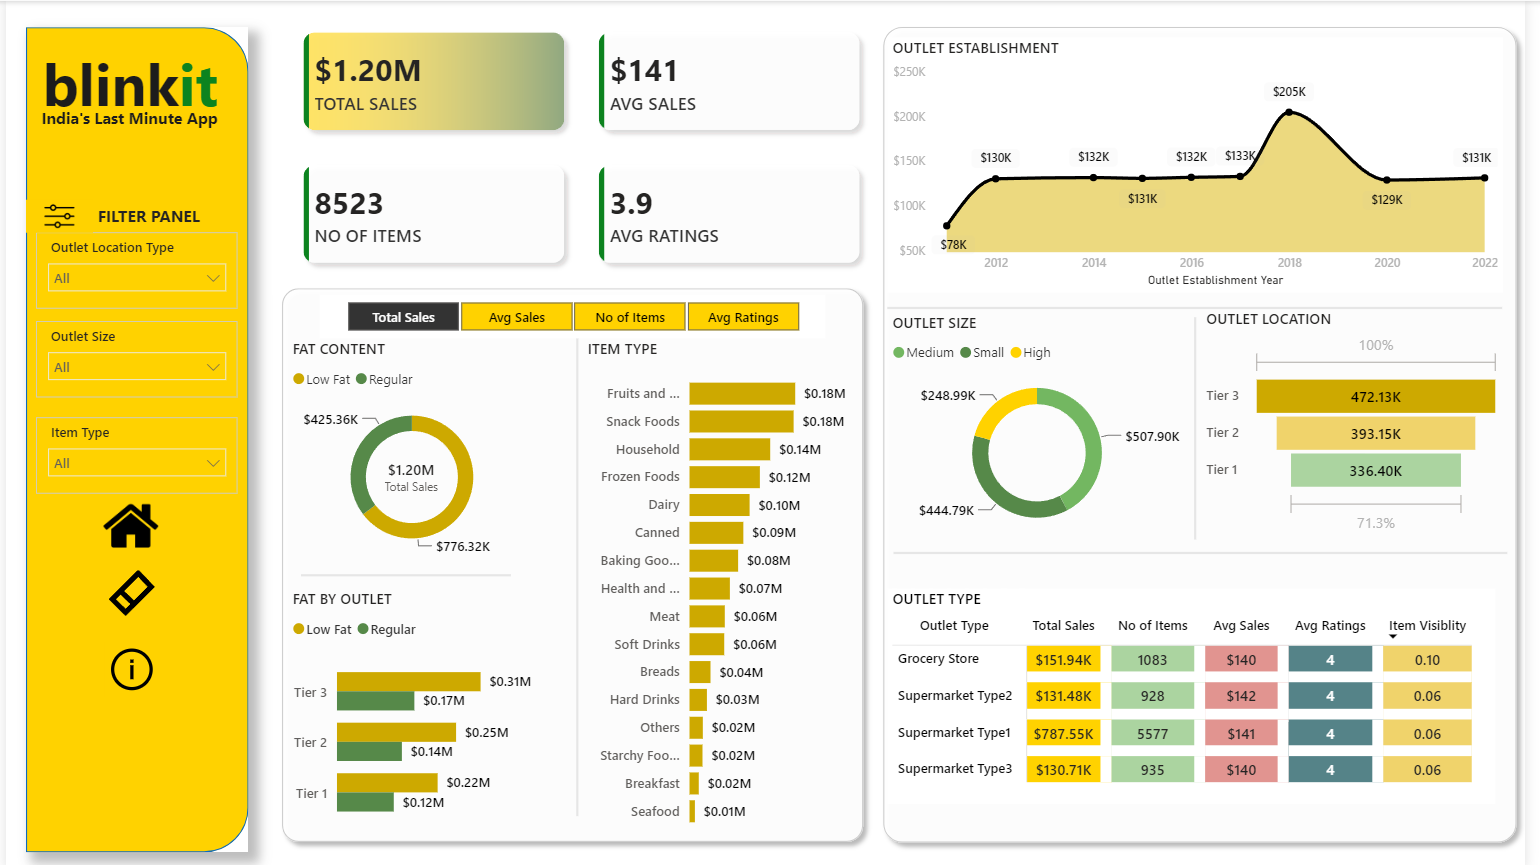

The dashboard page shown, as its layout file describes it:
{"tool":"powerbi","page":{"name":"HOME","canvas":[1400,800],"ordinal":0},"visuals":[{"type":"shape","box":[18.7,24,205,760],"z":0},{"type":"textbox","box":[28.6,34.3,185.7,90],"z":1000},{"type":"textbox","box":[28,92,173.3,33.3],"z":2000},{"type":"cardVisual","fields":{"Data":["All Measures.Total Sales","All Measures.Avg Sales","All Measures.No of Items","All Measures.Avg Ratings"]},"box":[245.3,0,570.7,270.7],"z":3000},{"type":"shape","box":[245.3,256,553.3,528],"z":4000},{"type":"donutChart","title":"FAT CONTENT","fields":{"Category":["BlinkIT Grocery Data.Item Fat Content"],"Y":["All Measures.Total Sales"]},"box":[258.8,311.2,230,210],"z":5000},{"type":"slicer","fields":{"Values":["Metrics.Metrics"]},"box":[289.3,270.7,465.3,40],"z":6000},{"type":"cardVisual","fields":{"Data":["All Measures.Total Sales"]},"box":[317.5,403.8,111.2,68.8],"z":7000},{"type":"clusteredBarChart","title":"FAT BY OUTLET","fields":{"Category":["BlinkIT Grocery Data.Outlet Location Type"],"Series":["BlinkIT Grocery Data.Item Fat Content"],"Y":["All Measures.Total Sales"]},"box":[258.8,541.2,230,231.2],"z":8000},{"type":"shape","box":[272,517.3,193.3,24],"z":9000},{"type":"shape","box":[521.3,310.7,9.3,440],"z":10000},{"type":"barChart","title":"ITEM TYPE","fields":{"Category":["BlinkIT Grocery Data.Item Type"],"Y":["All Measures.Total Sales"]},"box":[530.7,310.7,248,461.3],"z":11000},{"type":"shape","box":[798.7,14.7,601.3,769.3],"z":12000},{"type":"lineChart","title":"OUTLET ESTABLISHMENT","fields":{"Category":["BlinkIT Grocery Data.Outlet Establishment Year"],"Y":["All Measures.Total Sales"]},"box":[811.2,33.8,567.5,235],"z":13000},{"type":"shape","box":[811.5,270.5,566.7,24.4],"z":14000},{"type":"donutChart","title":"OUTLET SIZE","fields":{"Category":["BlinkIT Grocery Data.Outlet Size"],"Y":["All Measures.Total Sales"]},"box":[811.2,286.2,276.2,213.8],"z":15000},{"type":"shape","box":[1091,291,7.7,205.1],"z":16000},{"type":"funnel","title":"OUTLET LOCATION","fields":{"Category":["BlinkIT Grocery Data.Outlet Location Type"],"Y":["Sum(BlinkIT Grocery Data.Sales)"]},"box":[1101.2,283.8,281.2,212.5],"z":17000},{"type":"shape","box":[817.9,496.2,565.4,24.4],"z":18000},{"type":"pivotTable","title":"OUTLET TYPE","fields":{"Rows":["BlinkIT Grocery Data.Outlet Type"],"Values":["All Measures.Total Sales","All Measures.No of Items","All Measures.Avg Sales","All Measures.Avg Ratings","Avg(BlinkIT Grocery Data.Item Visibility)"]},"box":[811.2,541.2,560,198.8],"z":19000},{"type":"slicer","fields":{"Values":["BlinkIT Grocery Data.Outlet Location Type"]},"box":[28.2,212.8,185.9,70.5],"z":20000},{"type":"slicer","fields":{"Values":["BlinkIT Grocery Data.Outlet Size"]},"box":[28.2,294.9,185.9,70.5],"z":21000},{"type":"slicer","fields":{"Values":["BlinkIT Grocery Data.Item Type"]},"box":[28.2,383.3,185.9,70.5],"z":22000},{"type":"textbox","box":[80,182.5,121.2,30],"z":23000},{"type":"image","box":[18.8,182.5,61.2,30],"z":24000},{"type":"image","box":[90,458.8,50,50],"z":25000},{"type":"actionButton","box":[90.5,520.2,50,50],"z":28000},{"type":"actionButton","box":[90.5,590.5,50,50],"z":28001}]}

Visuals, with their boxes in screenshot pixels (x1, y1, x2, y2), scaled from the page's 1400x800 canvas onto the 1540x865 screenshot:
shape: [x1=21, y1=26, x2=246, y2=848]
textbox: [x1=31, y1=37, x2=236, y2=134]
textbox: [x1=31, y1=99, x2=221, y2=135]
cardVisual - All Measures.Total Sales x All Measures.Avg Sales: [x1=270, y1=0, x2=898, y2=293]
shape: [x1=270, y1=277, x2=878, y2=848]
"FAT CONTENT" donutChart: [x1=285, y1=336, x2=538, y2=564]
slicer - Metrics.Metrics: [x1=318, y1=293, x2=830, y2=336]
cardVisual - All Measures.Total Sales: [x1=349, y1=437, x2=472, y2=511]
"FAT BY OUTLET" clusteredBarChart: [x1=285, y1=585, x2=538, y2=835]
shape: [x1=299, y1=559, x2=512, y2=585]
shape: [x1=573, y1=336, x2=584, y2=812]
"ITEM TYPE" barChart: [x1=584, y1=336, x2=857, y2=835]
shape: [x1=879, y1=16, x2=1539, y2=848]
"OUTLET ESTABLISHMENT" lineChart: [x1=892, y1=37, x2=1517, y2=291]
shape: [x1=893, y1=292, x2=1516, y2=319]
"OUTLET SIZE" donutChart: [x1=892, y1=309, x2=1196, y2=541]
shape: [x1=1200, y1=315, x2=1209, y2=536]
"OUTLET LOCATION" funnel: [x1=1211, y1=307, x2=1521, y2=537]
shape: [x1=900, y1=537, x2=1522, y2=563]
"OUTLET TYPE" pivotTable: [x1=892, y1=585, x2=1508, y2=800]
slicer - BlinkIT Grocery Data.Outlet Location Type: [x1=31, y1=230, x2=236, y2=306]
slicer - BlinkIT Grocery Data.Outlet Size: [x1=31, y1=319, x2=236, y2=395]
slicer - BlinkIT Grocery Data.Item Type: [x1=31, y1=414, x2=236, y2=491]
textbox: [x1=88, y1=197, x2=221, y2=230]
image: [x1=21, y1=197, x2=88, y2=230]
image: [x1=99, y1=496, x2=154, y2=550]
actionButton: [x1=100, y1=562, x2=155, y2=617]
actionButton: [x1=100, y1=638, x2=155, y2=693]
